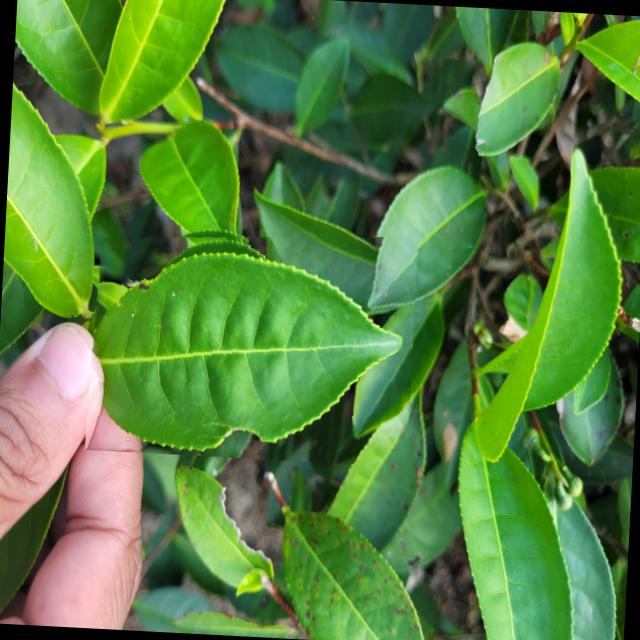Category B(2-4 days): (82, 219, 418, 466)
